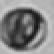correct: (1, 6, 50, 50)
